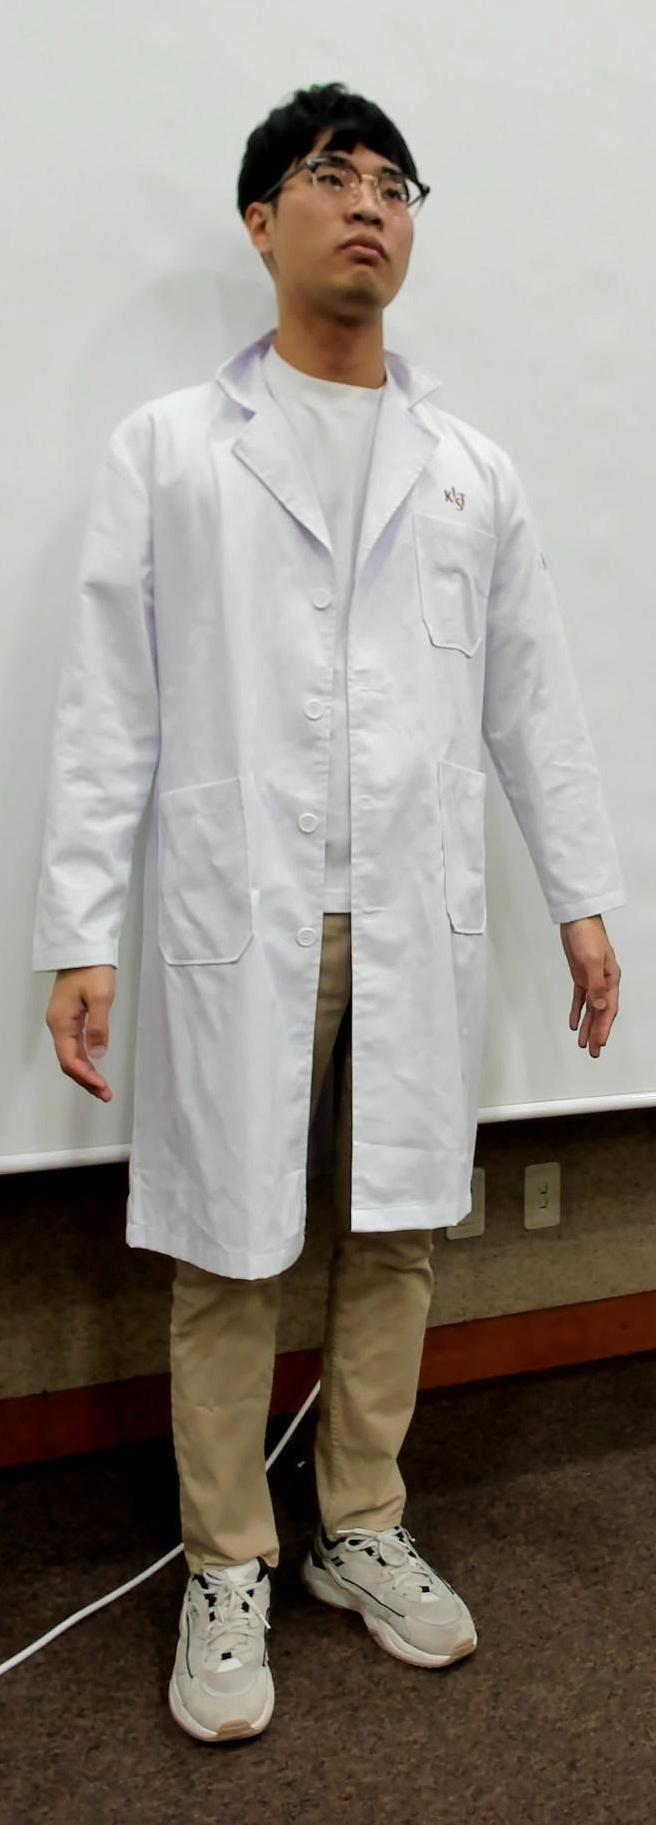lab_coat: (137, 381, 497, 1255)
